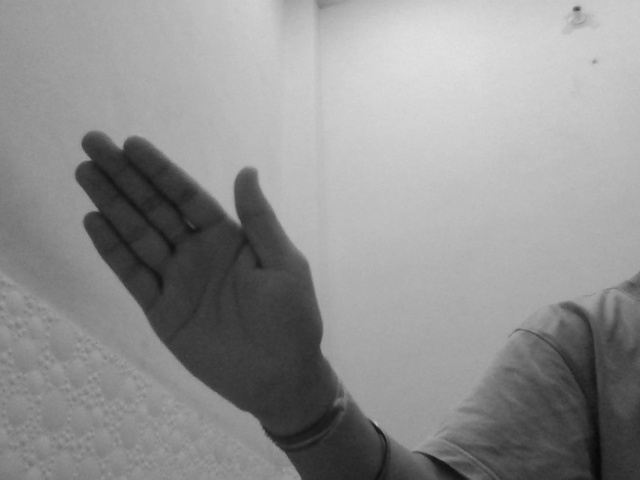Hello: (72, 127, 325, 426)
